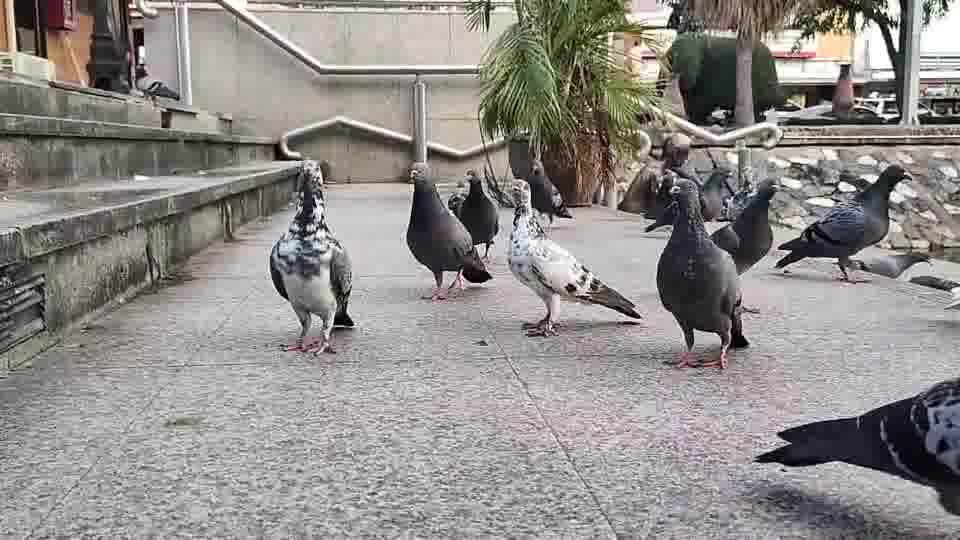Pigeon: (752, 375, 959, 515), (505, 179, 642, 337), (644, 175, 743, 370), (771, 162, 913, 283), (268, 159, 355, 356), (404, 161, 493, 302), (707, 176, 779, 349), (447, 169, 500, 259), (525, 158, 573, 224), (839, 250, 933, 280), (909, 274, 959, 310)
